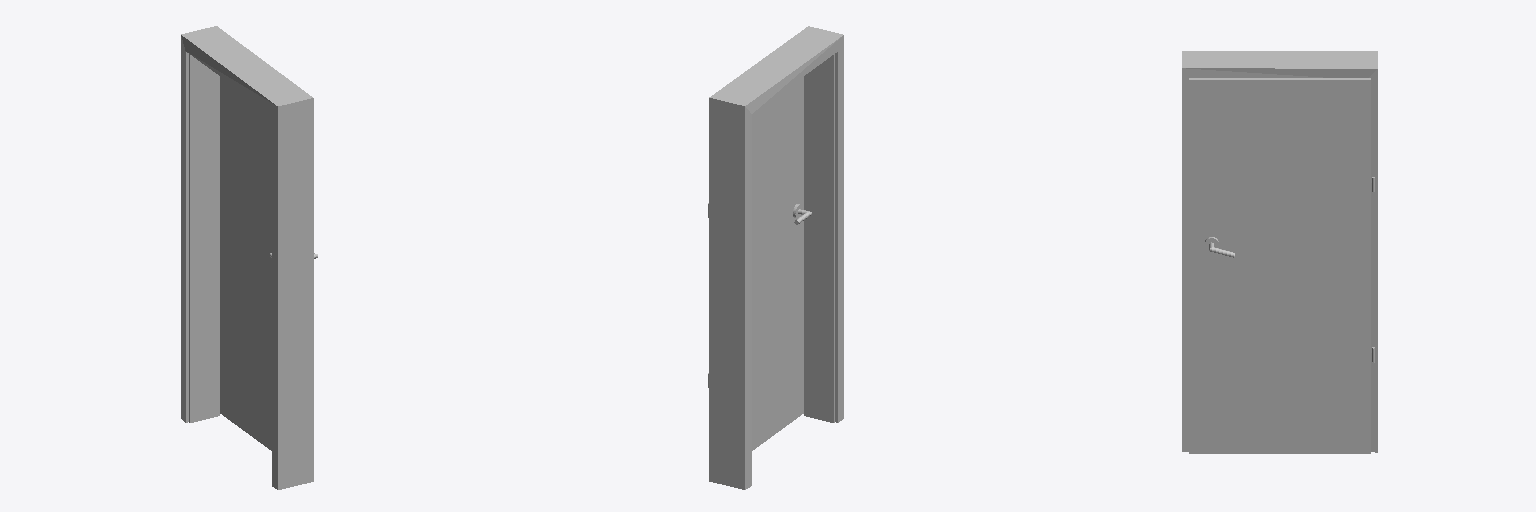
File: door84.obj
3 renders of one model, left to right at view 1: azimuth 30°, elevation 25°; view 2: azimuth 150°, elevation 25°; view 3: azimuth 270°, elevation 25°, orthographic.
Visible parts, largest first — view 1: Cylinder.005, Cylinder.001; view 2: Cylinder.005, Cylinder.001; view 3: Cylinder.001, Cylinder.005.
Boxes of the visible parts, x1,y1,x2,y2 form: Cylinder.005: [181, 26, 313, 489]; Cylinder.001: [220, 77, 271, 450]; Cylinder.005: [708, 26, 843, 489]; Cylinder.001: [708, 77, 803, 450]; Cylinder.001: [1189, 78, 1374, 453]; Cylinder.005: [1182, 51, 1377, 452].
Bounding box in the file's own units: 0.3039 × 2.05 × 0.95.